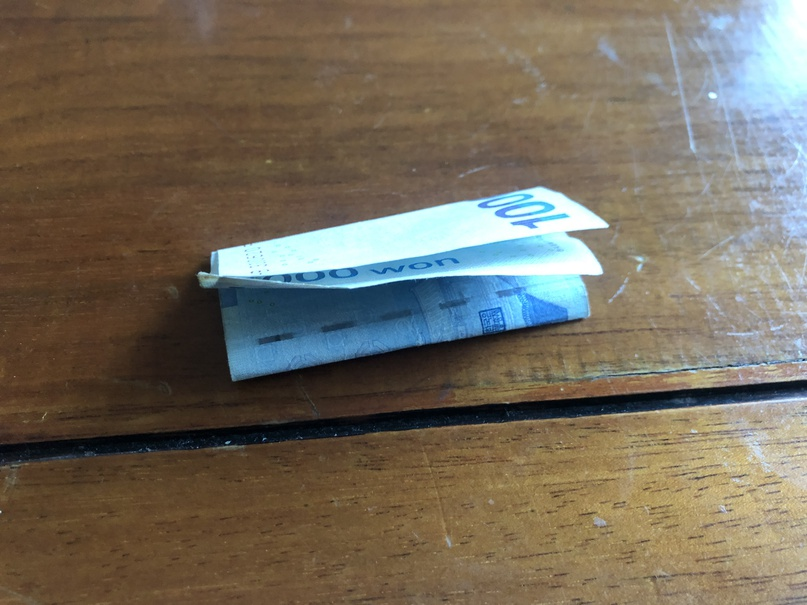1000won: (196, 186, 609, 384)
